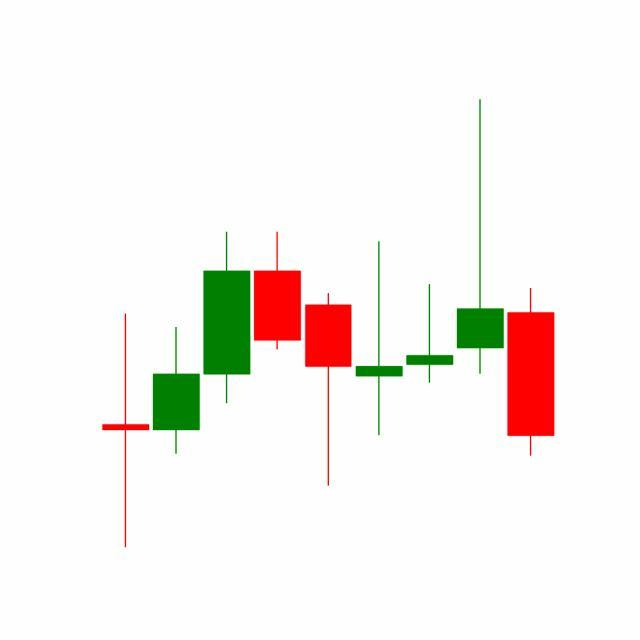Hikkake Pattern: (252, 99, 506, 491)
